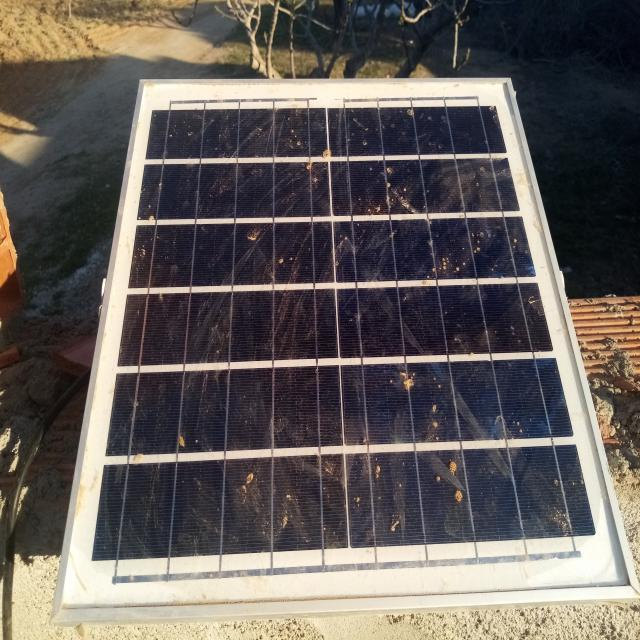faulty: (55, 78, 637, 609)
